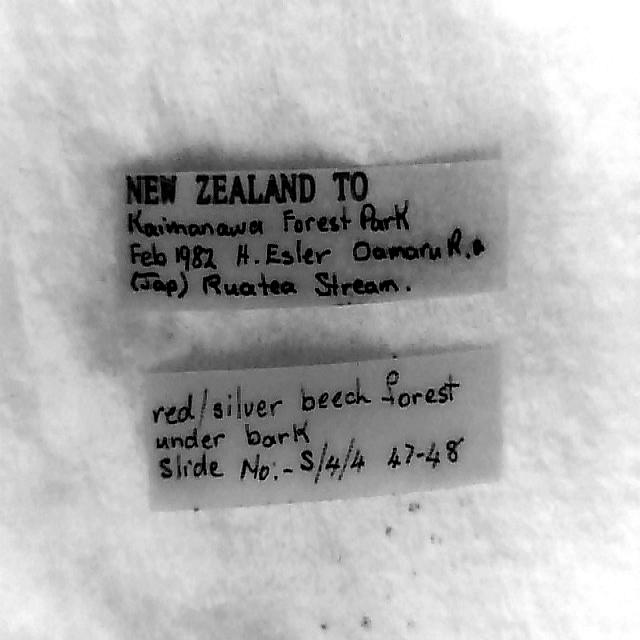hand_label: (148, 348, 501, 510)
mixed_label: (116, 158, 508, 308)
